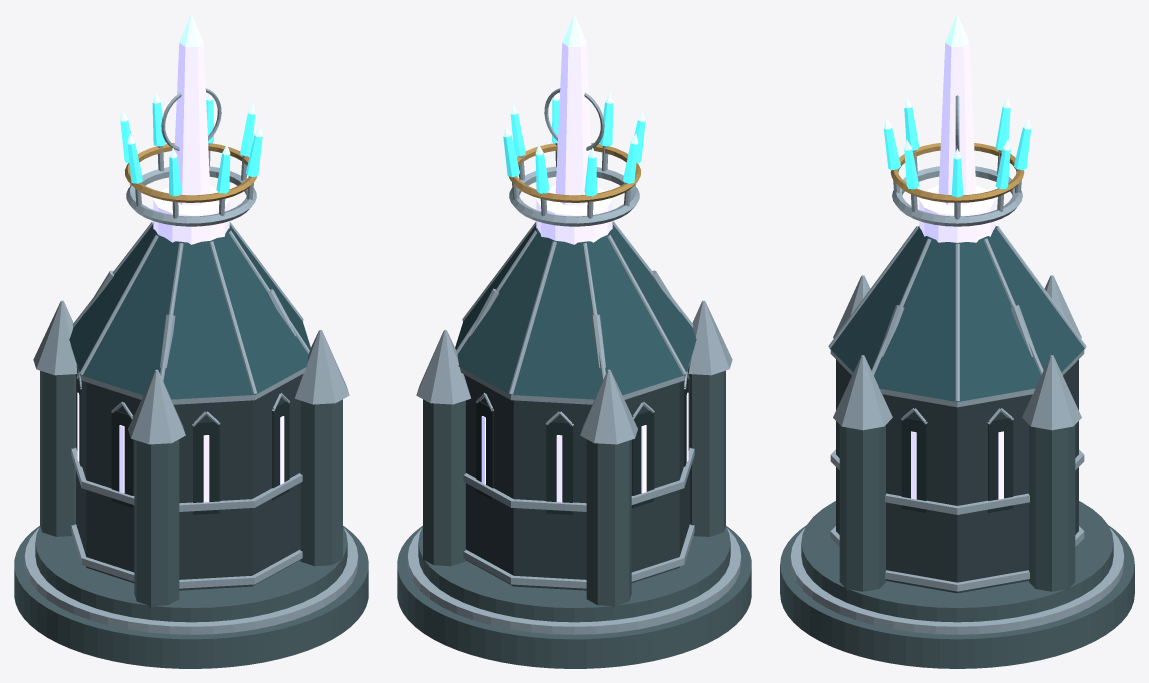
Rendered from world-kaiserdom.glb.
The picture shows the model from 3 angles, left to right: view 1: azimuth 30°, elevation 25°; view 2: azimuth 150°, elevation 25°; view 3: azimuth 270°, elevation 25°; orthographic projection.
Visible parts, largest first — view 1: world-kaiserdom / Mineral basalt edge, world-kaiserdom / Prussian slate, world-kaiserdom / Tarnished imperial silver, world-kaiserdom / Faceted blue basalt, world-kaiserdom / Imperial violet pressure glass, world-kaiserdom / Deep insets, world-kaiserdom / Ice turquoise facets, world-kaiserdom / Weathered maritime brass, world-kaiserdom / Luminous crystal tips; view 2: world-kaiserdom / Mineral basalt edge, world-kaiserdom / Prussian slate, world-kaiserdom / Tarnished imperial silver, world-kaiserdom / Faceted blue basalt, world-kaiserdom / Imperial violet pressure glass, world-kaiserdom / Deep insets, world-kaiserdom / Ice turquoise facets, world-kaiserdom / Weathered maritime brass, world-kaiserdom / Luminous crystal tips; view 3: world-kaiserdom / Mineral basalt edge, world-kaiserdom / Prussian slate, world-kaiserdom / Tarnished imperial silver, world-kaiserdom / Faceted blue basalt, world-kaiserdom / Imperial violet pressure glass, world-kaiserdom / Deep insets, world-kaiserdom / Ice turquoise facets, world-kaiserdom / Weathered maritime brass, world-kaiserdom / Luminous crystal tips.
Part boxes in pixels (<box>): world-kaiserdom / Mineral basalt edge: <box>14,370,368,668</box>; world-kaiserdom / Prussian slate: <box>69,223,310,399</box>; world-kaiserdom / Tarnished imperial silver: <box>24,88,358,634</box>; world-kaiserdom / Faceted blue basalt: <box>76,365,301,590</box>; world-kaiserdom / Imperial violet pressure glass: <box>77,43,284,502</box>; world-kaiserdom / Deep insets: <box>77,378,289,514</box>; world-kaiserdom / Ice turquoise facets: <box>120,99,262,196</box>; world-kaiserdom / Weathered maritime brass: <box>124,143,257,202</box>; world-kaiserdom / Luminous crystal tips: <box>120,14,262,158</box>; world-kaiserdom / Mineral basalt edge: <box>397,370,751,668</box>; world-kaiserdom / Prussian slate: <box>455,223,696,399</box>; world-kaiserdom / Tarnished imperial silver: <box>407,88,741,634</box>; world-kaiserdom / Faceted blue basalt: <box>464,365,689,590</box>; world-kaiserdom / Imperial violet pressure glass: <box>481,43,688,502</box>; world-kaiserdom / Deep insets: <box>476,378,688,514</box>; world-kaiserdom / Ice turquoise facets: <box>503,99,645,196</box>; world-kaiserdom / Weathered maritime brass: <box>508,143,641,202</box>; world-kaiserdom / Luminous crystal tips: <box>503,14,645,158</box>; world-kaiserdom / Mineral basalt edge: <box>780,425,1134,668</box>; world-kaiserdom / Prussian slate: <box>829,226,1085,401</box>; world-kaiserdom / Tarnished imperial silver: <box>790,95,1124,634</box>; world-kaiserdom / Faceted blue basalt: <box>836,359,1078,593</box>; world-kaiserdom / Imperial violet pressure glass: <box>911,43,1003,499</box>; world-kaiserdom / Deep insets: <box>901,417,1013,512</box>; world-kaiserdom / Ice turquoise facets: <box>884,107,1030,197</box>; world-kaiserdom / Weathered maritime brass: <box>890,143,1024,202</box>; world-kaiserdom / Luminous crystal tips: <box>884,14,1030,159</box>.
Size of the model in its own units: 13 by 23.45 by 13.
